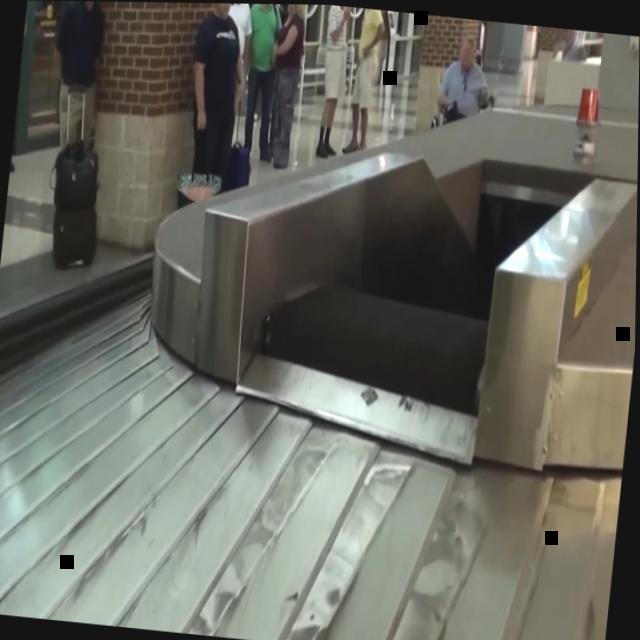luggage: (50, 133, 99, 273), (220, 141, 254, 196)
